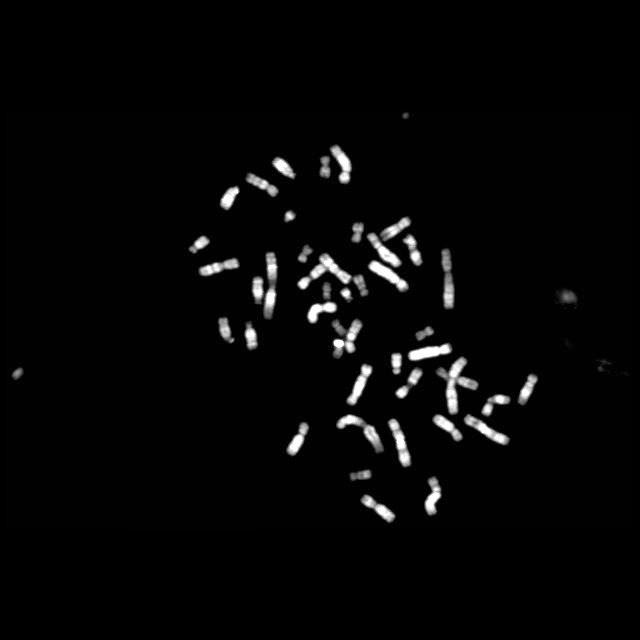chromosome: (337, 414, 383, 454), (464, 413, 510, 447), (369, 260, 409, 292), (367, 232, 401, 268), (447, 357, 468, 415), (262, 252, 278, 320), (388, 418, 410, 466), (320, 252, 352, 284), (436, 367, 478, 391), (348, 364, 372, 406), (360, 495, 396, 523), (440, 249, 456, 309), (298, 260, 329, 290), (330, 144, 352, 183), (396, 369, 424, 399), (432, 414, 462, 442), (247, 172, 279, 198), (286, 421, 308, 455), (381, 217, 412, 241), (199, 258, 239, 276), (424, 476, 442, 516), (408, 344, 452, 360), (308, 302, 336, 324), (403, 234, 422, 266), (482, 396, 511, 416), (273, 156, 297, 178), (346, 321, 362, 354), (520, 373, 536, 405), (217, 316, 235, 344), (221, 186, 239, 210), (188, 236, 210, 254), (354, 274, 368, 298), (251, 276, 263, 304), (245, 321, 257, 349), (332, 319, 348, 337), (560, 289, 578, 305), (350, 222, 364, 242), (320, 156, 332, 178), (331, 340, 343, 360), (350, 469, 370, 481), (298, 245, 312, 262), (416, 326, 434, 339), (392, 352, 402, 374), (322, 282, 332, 300), (342, 287, 352, 303), (284, 212, 296, 222)
